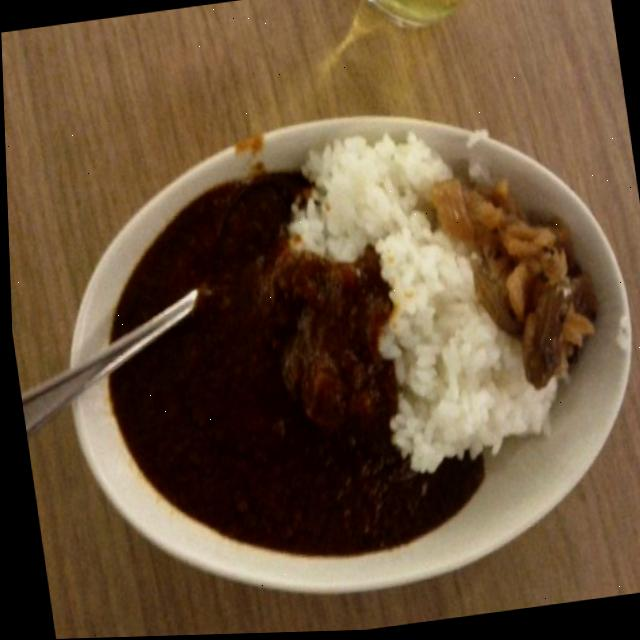牛肉菜式: (20, 80, 640, 633)
